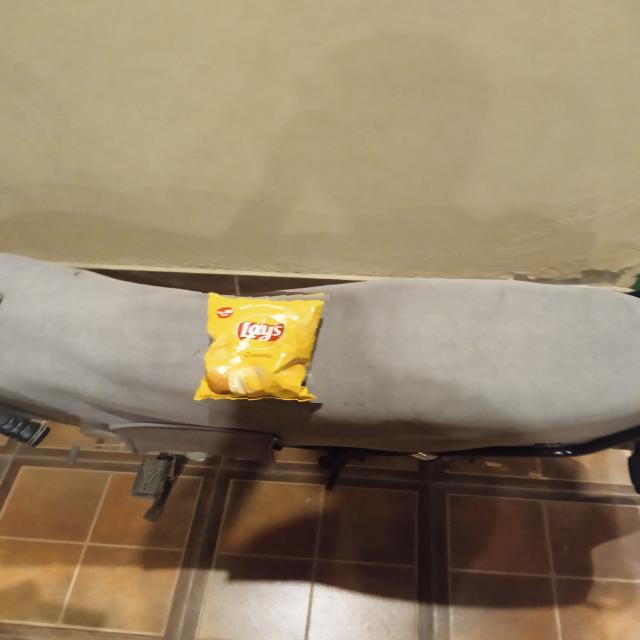Plastic: (193, 286, 330, 403)
